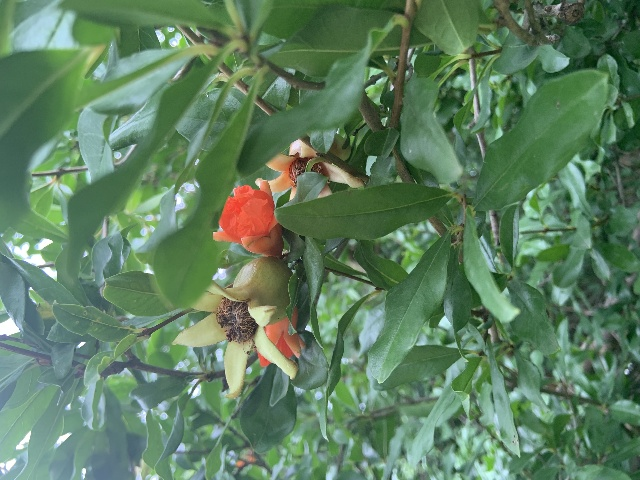early-fruit: (174, 255, 297, 396), (255, 138, 364, 200)
flower: (213, 179, 284, 257), (256, 305, 305, 383)
